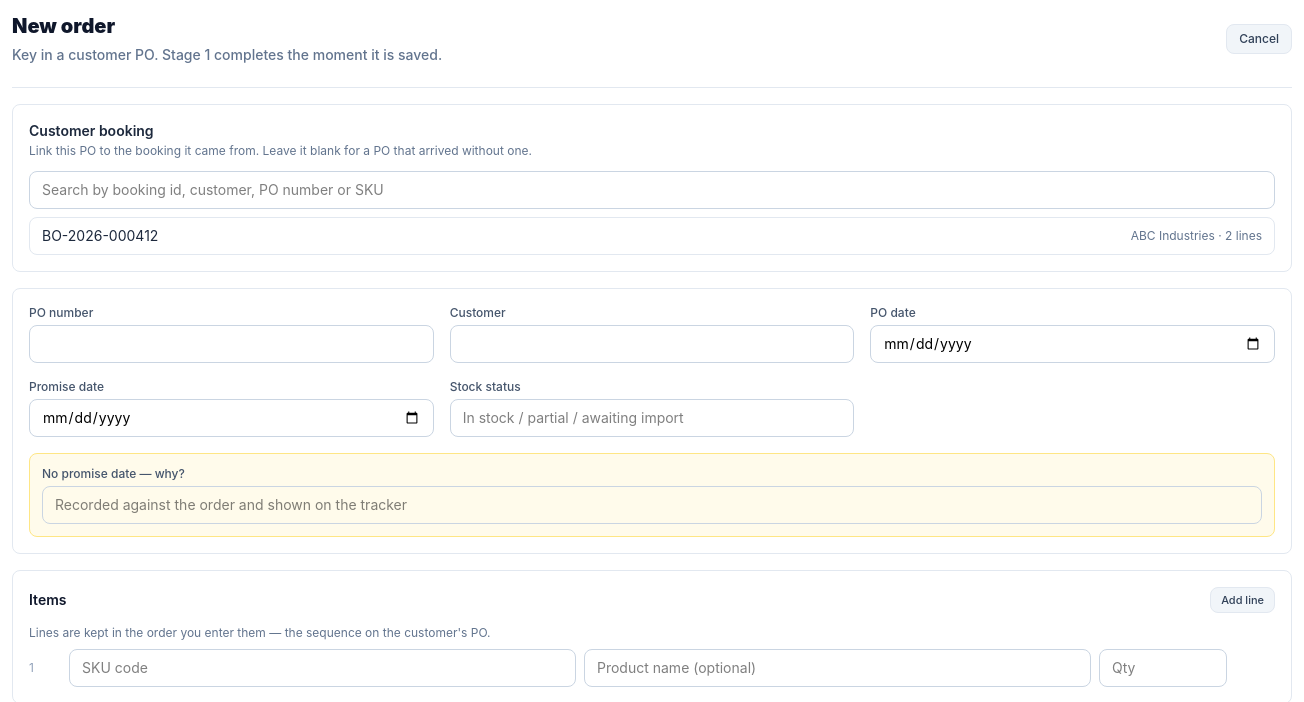
Test case: the booking picker › picking one prefills the customer and shows the lines for review
Click the text "BO-2026-000412": (100, 236) [42, 226, 158, 246]
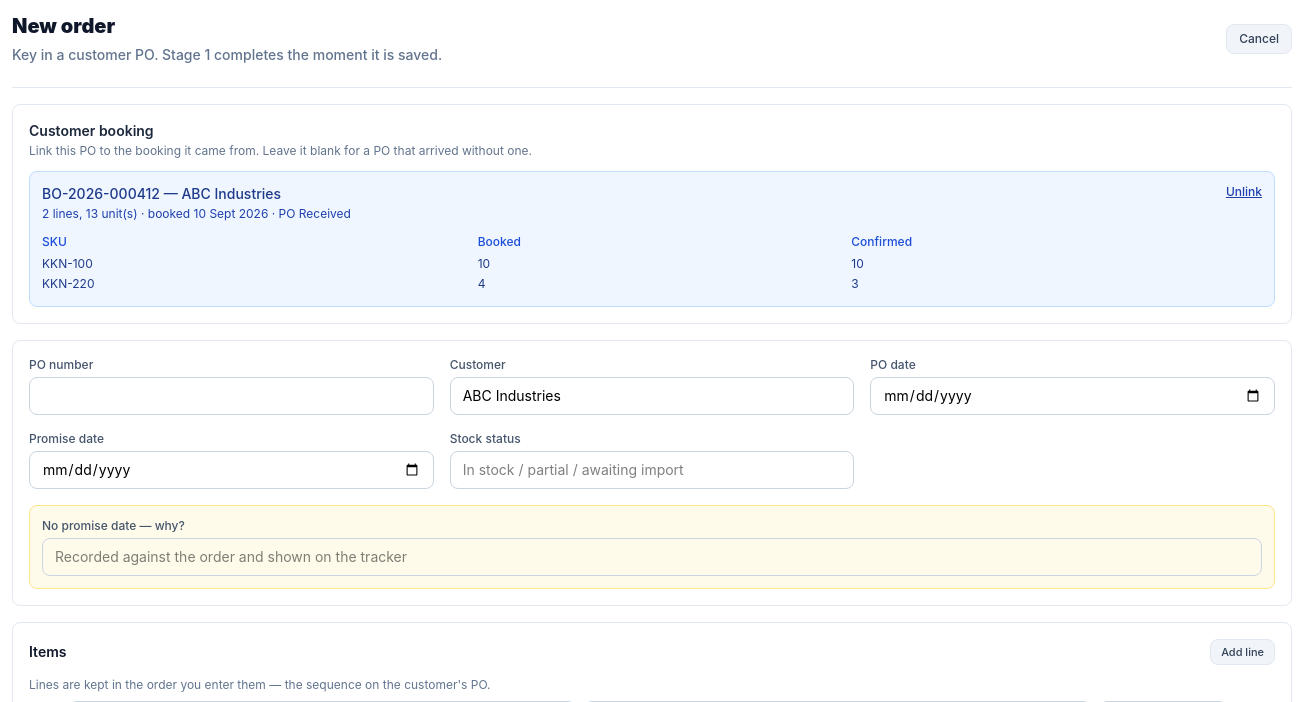
Expected: the text "KKN-100" is shown, [42, 254, 478, 274]
Expected: the text "KKN-220" is shown, [42, 274, 478, 294]
Expected: the field labelled "Customer" holds "ABC Industries", [450, 377, 854, 415]
